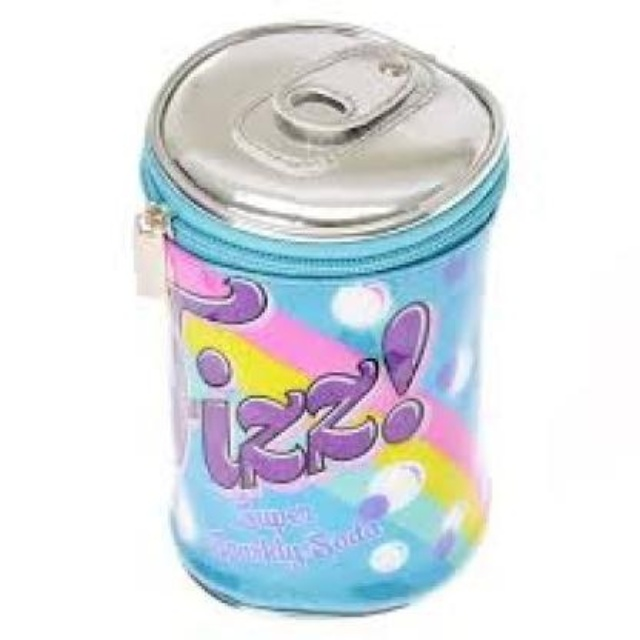trash: (142, 23, 506, 612)
